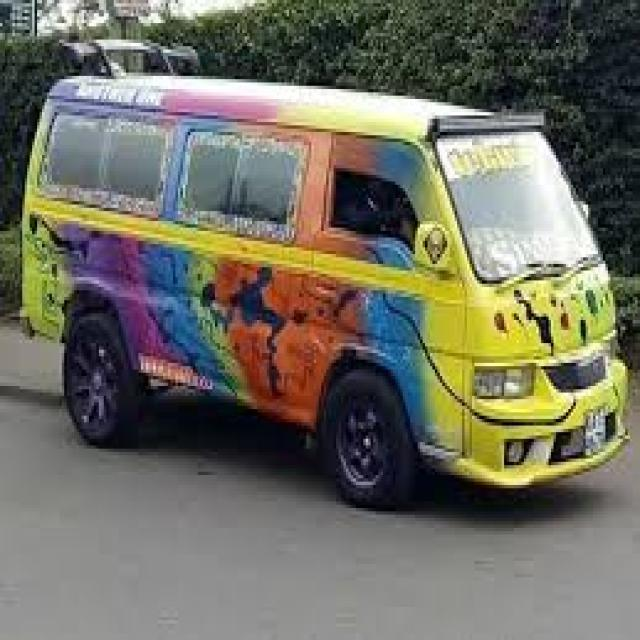matatu: (10, 28, 635, 566)
